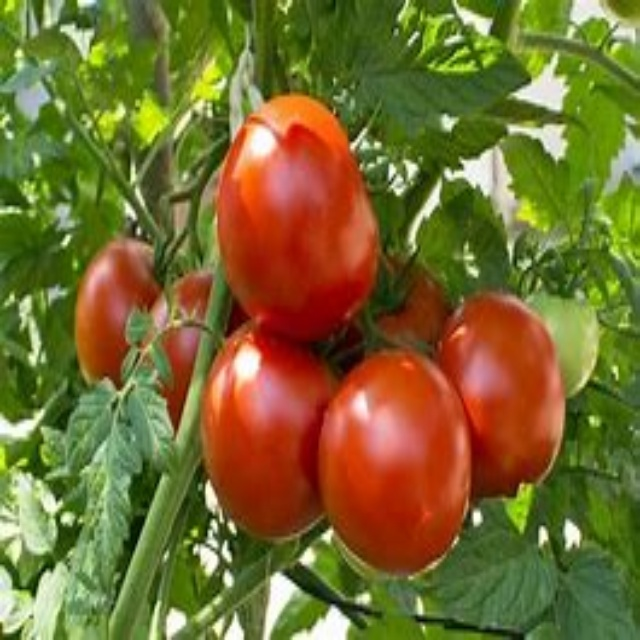tomato: (218, 100, 380, 337), (182, 325, 346, 541), (320, 351, 473, 570), (423, 289, 574, 503), (69, 233, 230, 411)
